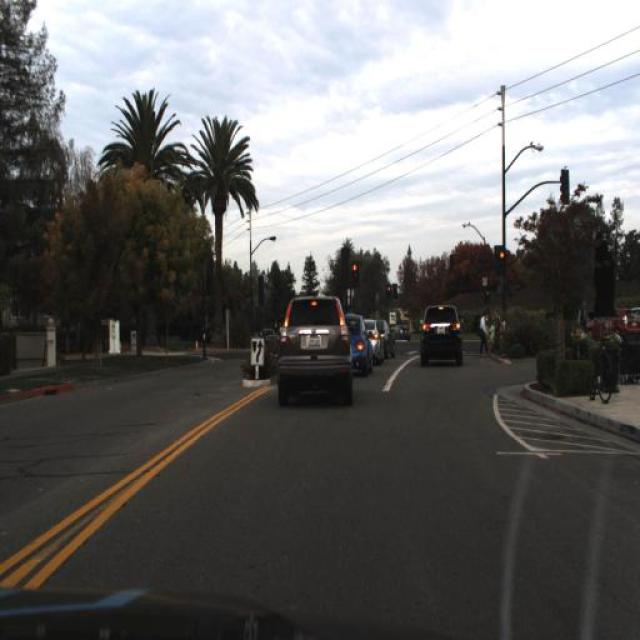car: (275, 292, 353, 396), (418, 299, 464, 365), (586, 302, 640, 334), (343, 312, 371, 367), (360, 317, 384, 357)
trafficLight: (476, 309, 492, 353)
trafficLight-RedLeft: (494, 244, 508, 278), (350, 257, 362, 282)
